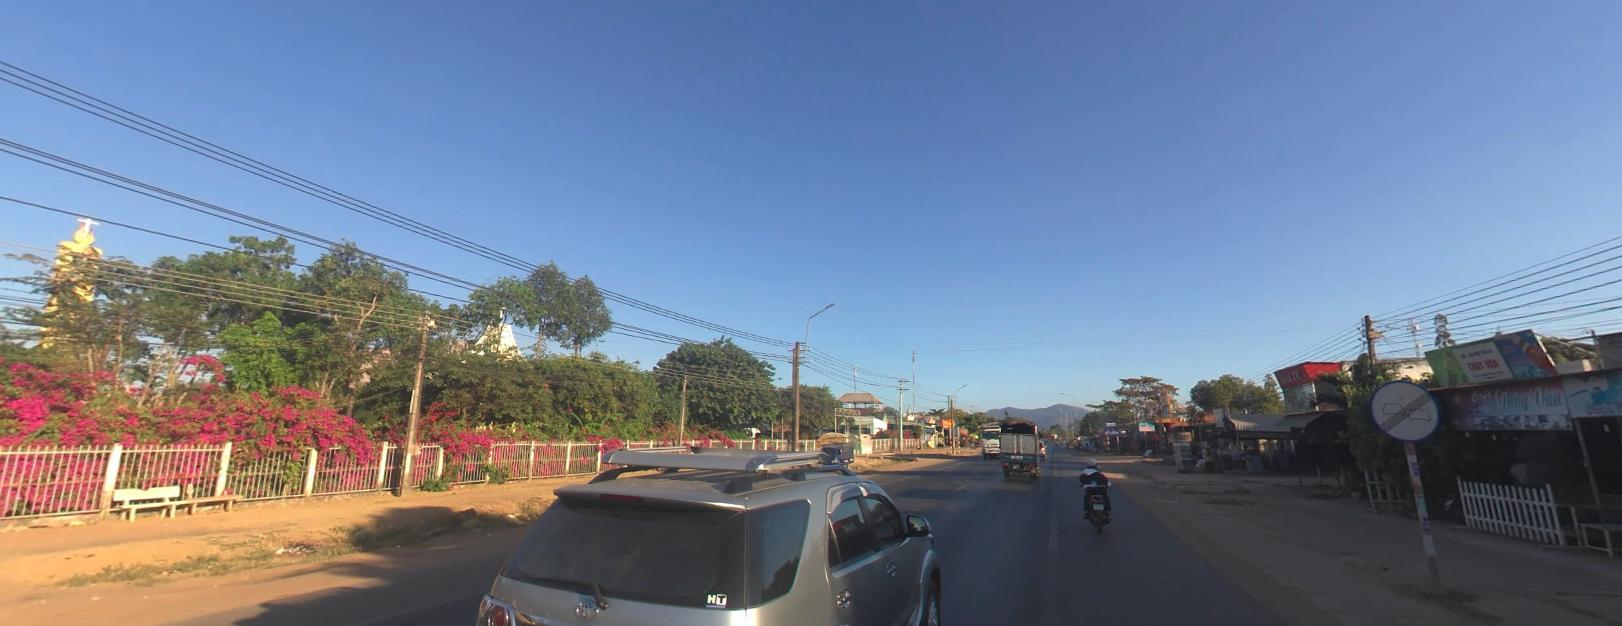Cam con lai: (1369, 372, 1441, 440)
